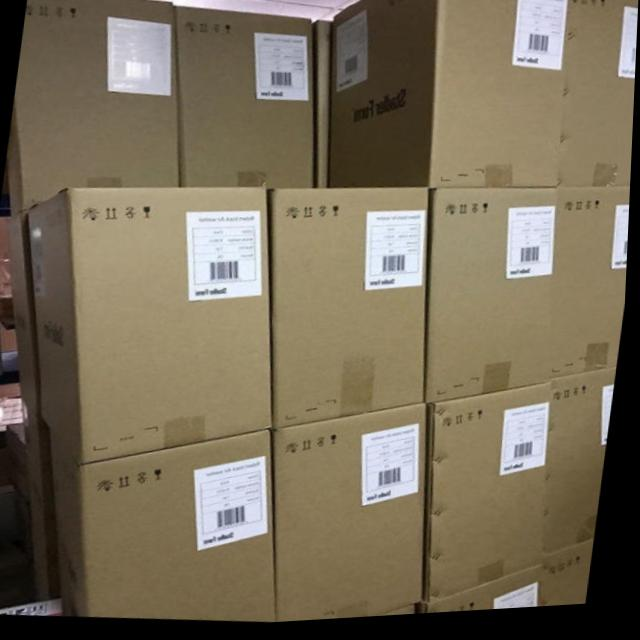box: (27, 190, 275, 464), (328, 0, 574, 195), (55, 433, 283, 626), (266, 191, 430, 432), (7, 0, 181, 213), (272, 406, 429, 626), (429, 190, 559, 408), (430, 387, 553, 612), (173, 8, 314, 192), (551, 193, 632, 386), (559, 0, 639, 195), (547, 371, 618, 565), (429, 546, 599, 619), (11, 208, 39, 413), (35, 414, 63, 599), (314, 23, 333, 193)
